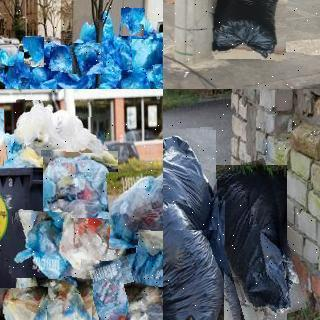Garbage: (203, 161, 297, 320), (163, 195, 224, 320), (163, 128, 217, 231), (14, 101, 106, 160), (58, 208, 130, 282), (43, 151, 118, 218), (206, 0, 287, 60), (78, 256, 151, 320), (107, 169, 163, 248), (11, 211, 70, 279), (30, 277, 92, 320), (134, 230, 163, 314), (0, 287, 48, 320), (122, 284, 163, 320), (70, 41, 103, 76), (131, 38, 163, 72), (57, 62, 92, 89), (23, 36, 45, 68), (121, 8, 145, 37), (4, 65, 31, 89), (118, 69, 150, 89), (50, 45, 73, 72), (45, 38, 59, 63), (17, 81, 43, 89)
